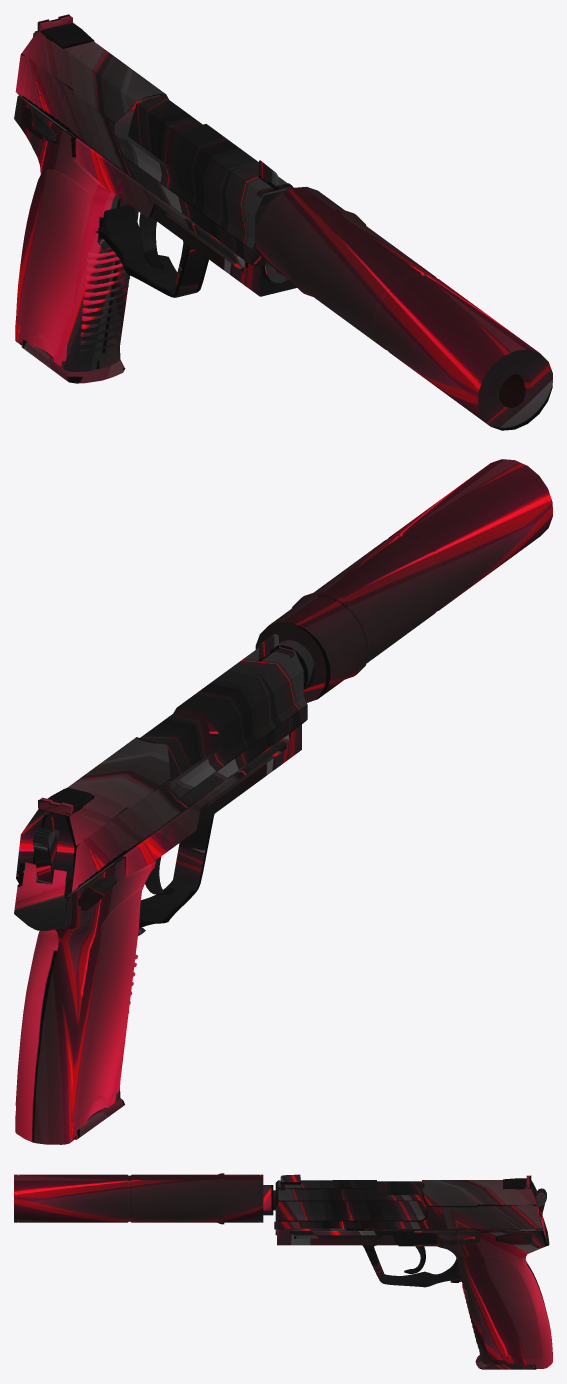
Rendered from blood_shot__usp-s_skin.glb.
3 renders of one model, top to bottom at view 1: azimuth 30°, elevation 25°; view 2: azimuth 150°, elevation 25°; view 3: azimuth 270°, elevation 25°, orthographic. The views are drawn at different scales.
Visible parts, largest first — view 1: Object_2, Object_3; view 2: Object_2, Object_3; view 3: Object_2, Object_3.
Boxes of the visible parts, x1=… form: Object_2: x1=14, y1=14, x2=552, y2=430; Object_3: x1=14, y1=14, x2=296, y2=383; Object_2: x1=14, y1=459, x2=552, y2=1139; Object_3: x1=15, y1=634, x2=303, y2=1144; Object_2: x1=14, y1=1173, x2=549, y2=1369; Object_3: x1=275, y1=1174, x2=552, y2=1369.
Bounding box in the file's own units: 1.71 × 6.84 × 17.83.
Materials: 1 (1 with a texture image).
